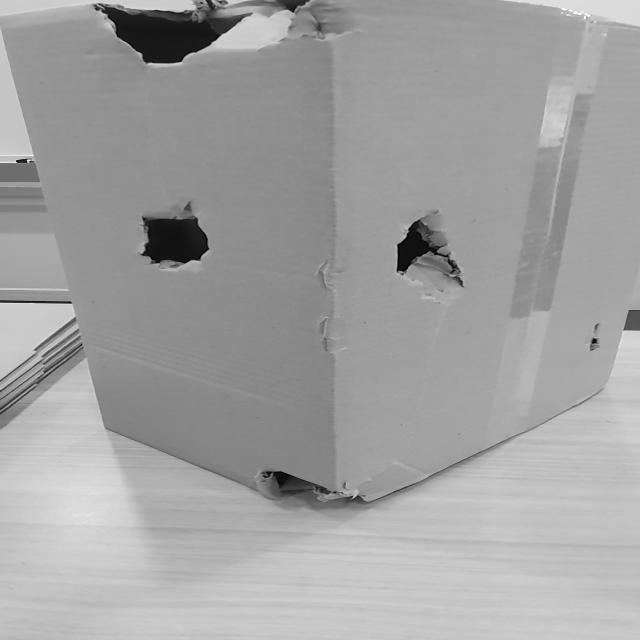hole: (85, 0, 354, 67), (120, 197, 222, 280), (389, 205, 469, 302), (252, 459, 376, 508), (574, 310, 621, 372)
